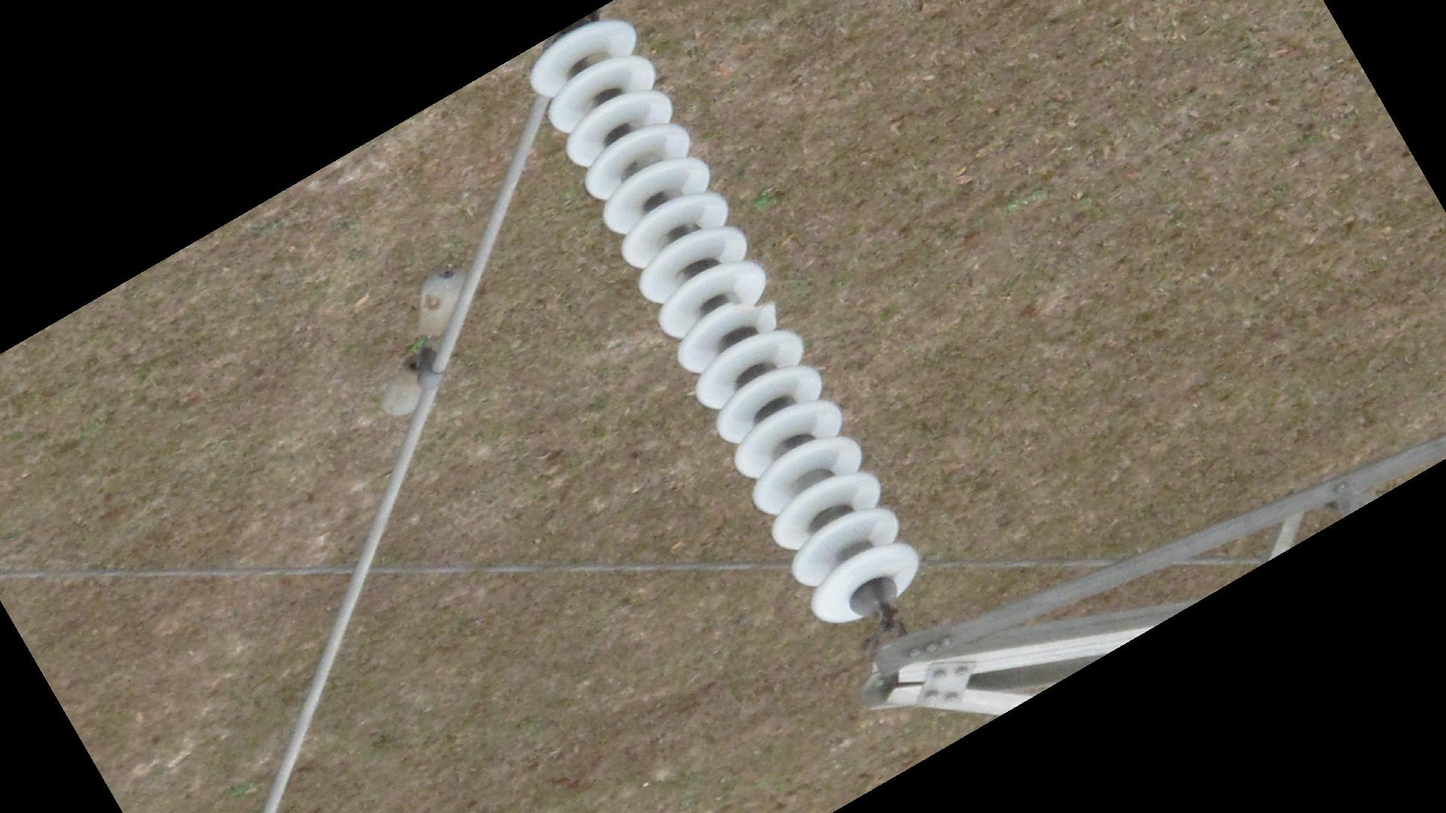insulator: (523, 16, 925, 631)
insulator_breakage: (723, 298, 783, 331)
